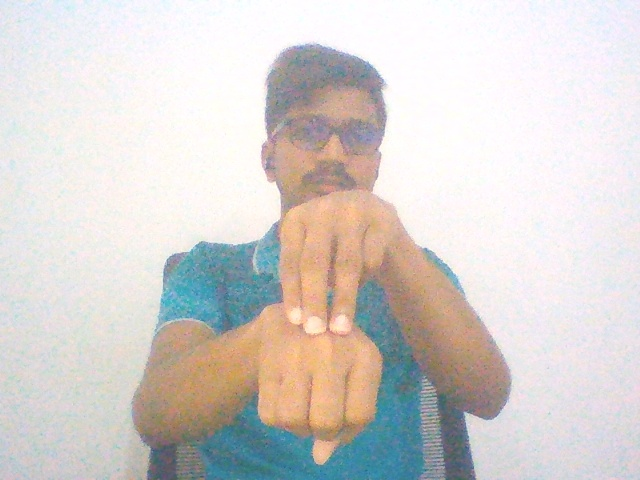papaya: (225, 170, 417, 471)
